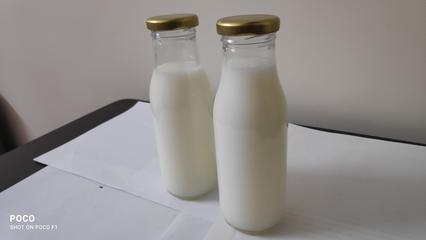milk: (208, 12, 304, 236), (123, 1, 213, 196)
